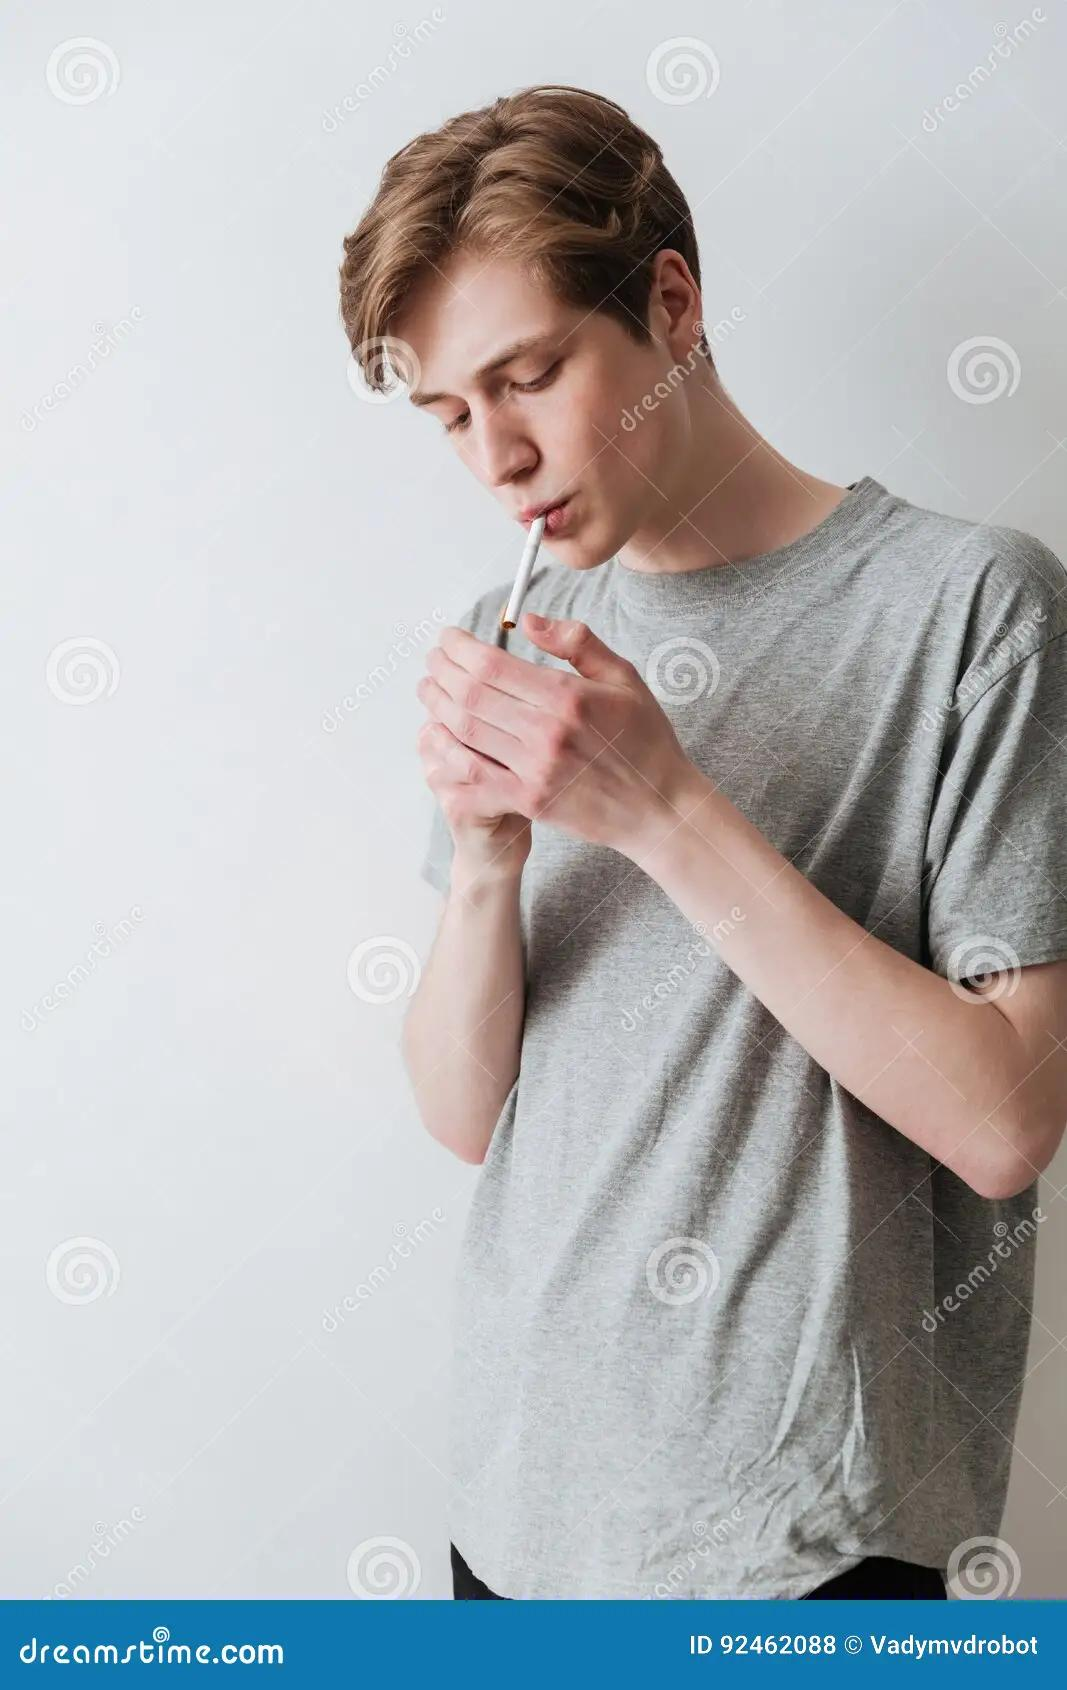cigarette: (500, 514, 546, 633)
